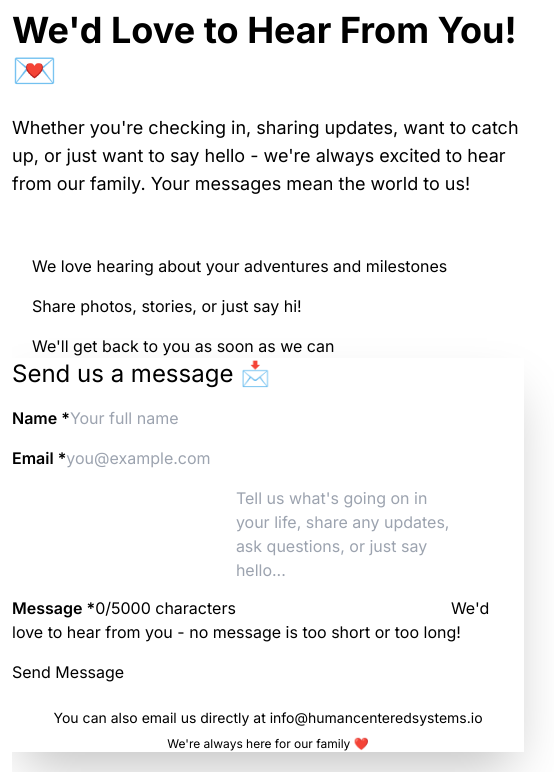
Contact Page › should show real-time email validation
# Type invalid email
In the field labelled "Email *": (183, 458) left=66, top=446, right=300, bottom=470, type "invalid-email"
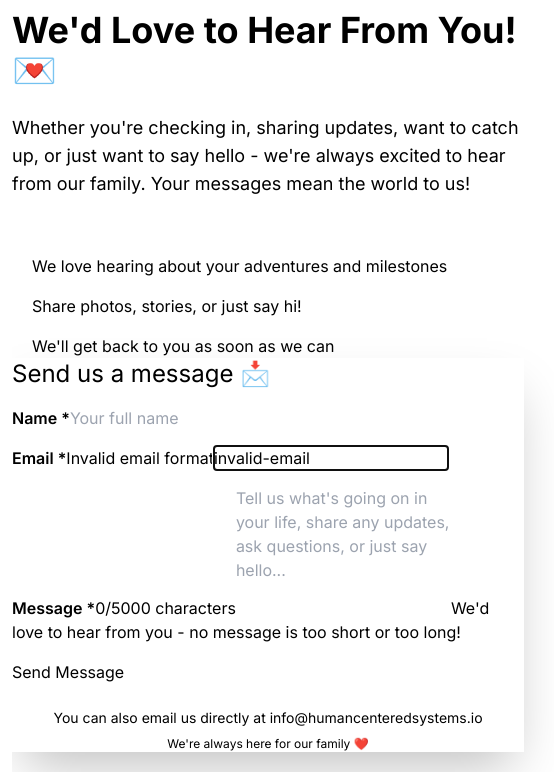
Result: the text "Invalid email format" is shown at left=66, top=448, right=214, bottom=468
# Clear and type valid email
Clear the field labelled "Email *Invalid email format": (331, 458) left=214, top=446, right=448, bottom=470
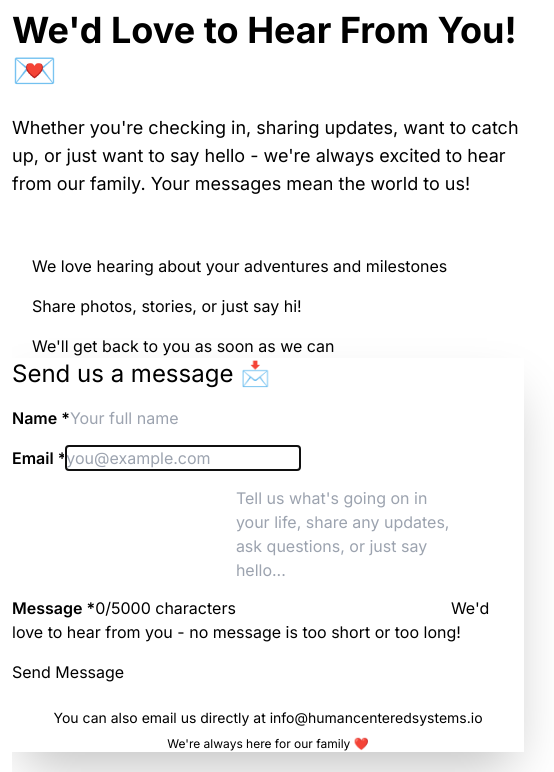
In the field labelled "Email *": (183, 458) left=66, top=446, right=300, bottom=470, type "john@example.com"
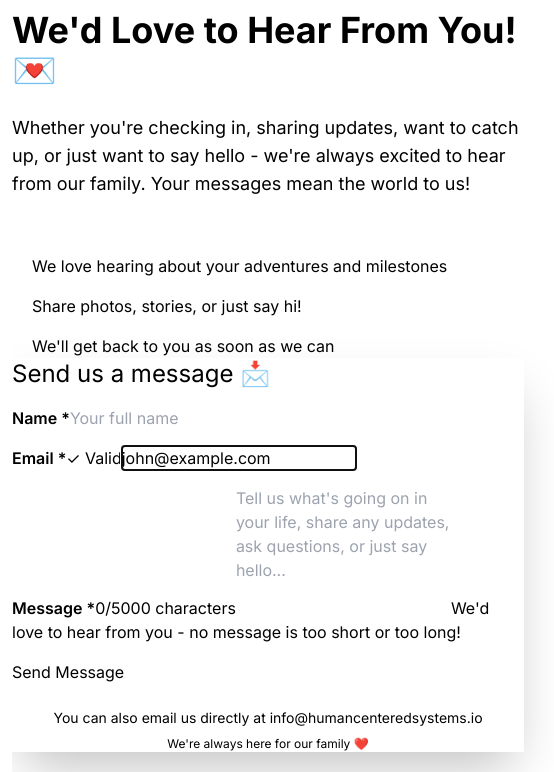
Result: the text "✓ Valid" is shown at left=66, top=448, right=122, bottom=468
